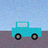vehicle: (12, 22, 41, 40)
